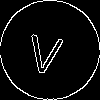V: (25, 25, 66, 76)
